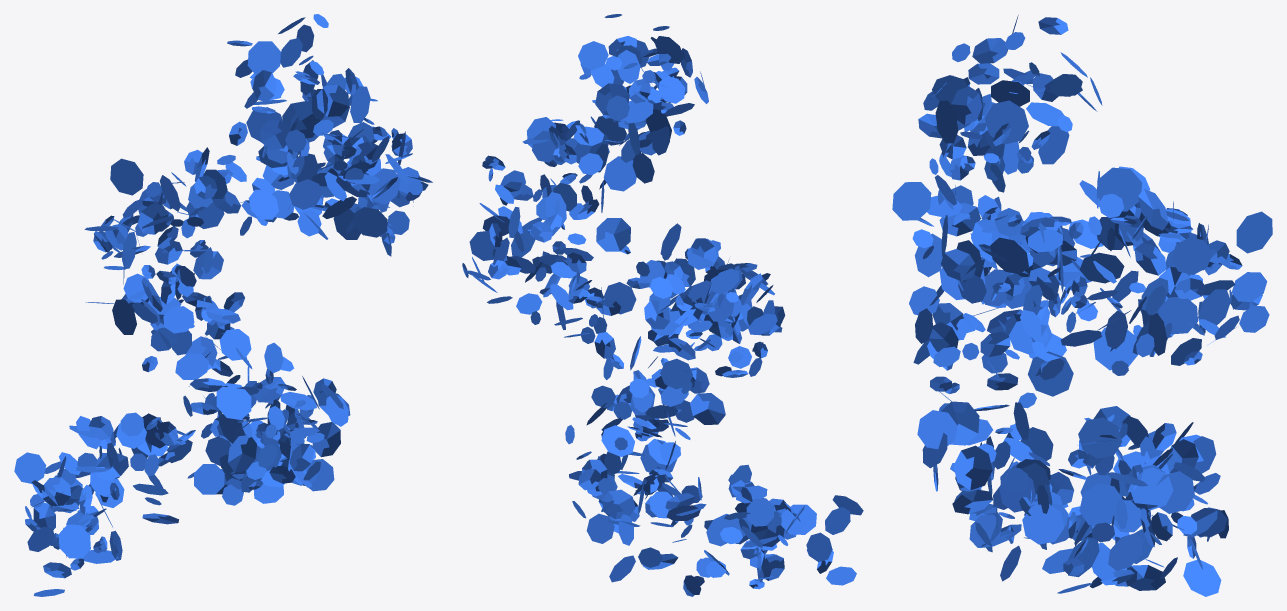
The model's file is CLOUD.obj.
3 renders of one model, left to right at view 1: azimuth 30°, elevation 25°; view 2: azimuth 150°, elevation 25°; view 3: azimuth 270°, elevation 25°, orthographic. The views are drawn at different scales.
Visible parts, largest first — view 1: Disc_1; view 2: Disc_1; view 3: Disc_1.
Boxes of the visible parts, x1=… form: Disc_1: x1=14, y1=14, x2=432, y2=596; Disc_1: x1=462, y1=14, x2=863, y2=596; Disc_1: x1=892, y1=15, x2=1272, y2=596.
Size of the model in its own units: 68.32 by 89.88 by 50.29.
